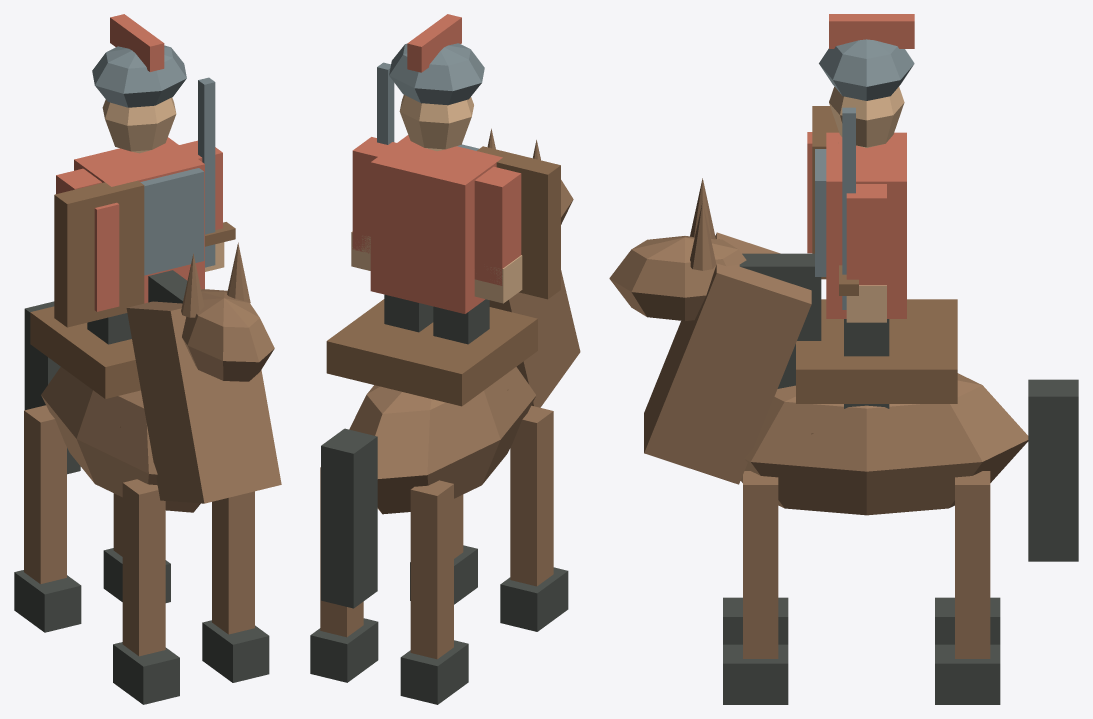
File: cavalry.glb
The picture shows the model from 3 angles, left to right: view 1: azimuth 30°, elevation 25°; view 2: azimuth 150°, elevation 25°; view 3: azimuth 270°, elevation 25°; orthographic projection. The views are drawn at different scales.
Parts seen in each view (by area): view 1: horse_neck, shield, horse_body, horse_leg, horse_leg.001, horse_head, horse_leg.002, breastplate, saddle, helmet, tunic, hoof.002 (+16 smaller); view 2: tunic, horse_body, saddle, tail, horse_leg.001, horse_leg, shield, arm, horse_neck, helmet, hoof, hoof.003 (+12 smaller); view 3: horse_body, horse_neck, saddle, tail, tunic, horse_head, horse_leg.003, horse_leg.002, helmet, arm.001, hoof.003, hoof.002 (+12 smaller).
Boxes of the visible parts, x1,y1,x2,y2 form: horse_neck: (126,289,281,503); shield: (54,180,144,327); horse_body: (41,367,200,512); horse_leg: (122,479,165,656); horse_leg.001: (24,405,66,584); horse_head: (182,291,274,381); horse_leg.002: (212,491,254,634); breastplate: (140,168,204,275); saddle: (30,306,140,398); helmet: (92,45,186,107); tunic: (74,137,204,303); hoof.002: (202,620,269,682); tunic: (370,135,502,313); horse_body: (349,367,536,514); saddle: (326,299,537,406); tail: (321,428,377,608); horse_leg.001: (410,480,453,659); horse_leg: (510,405,553,586); shield: (477,146,560,299); arm: (474,166,521,285); horse_neck: (489,270,580,407); helmet: (389,43,484,105); hoof: (500,567,568,631); hoof.003: (310,618,378,682); horse_body: (740,373,1028,515); horse_neck: (644,232,811,484); saddle: (796,299,957,403); tail: (1028,379,1078,561); tunic: (826,132,906,318); horse_head: (609,236,746,320); horse_leg.003: (955,471,990,658); horse_leg.002: (743,471,778,658); helmet: (819,39,914,100); arm.001: (846,184,886,285); hoof.003: (935,644,1000,704); hoof.002: (723,644,788,704).
Size of the model in its own units: 0.89 by 2.86 by 1.86.
